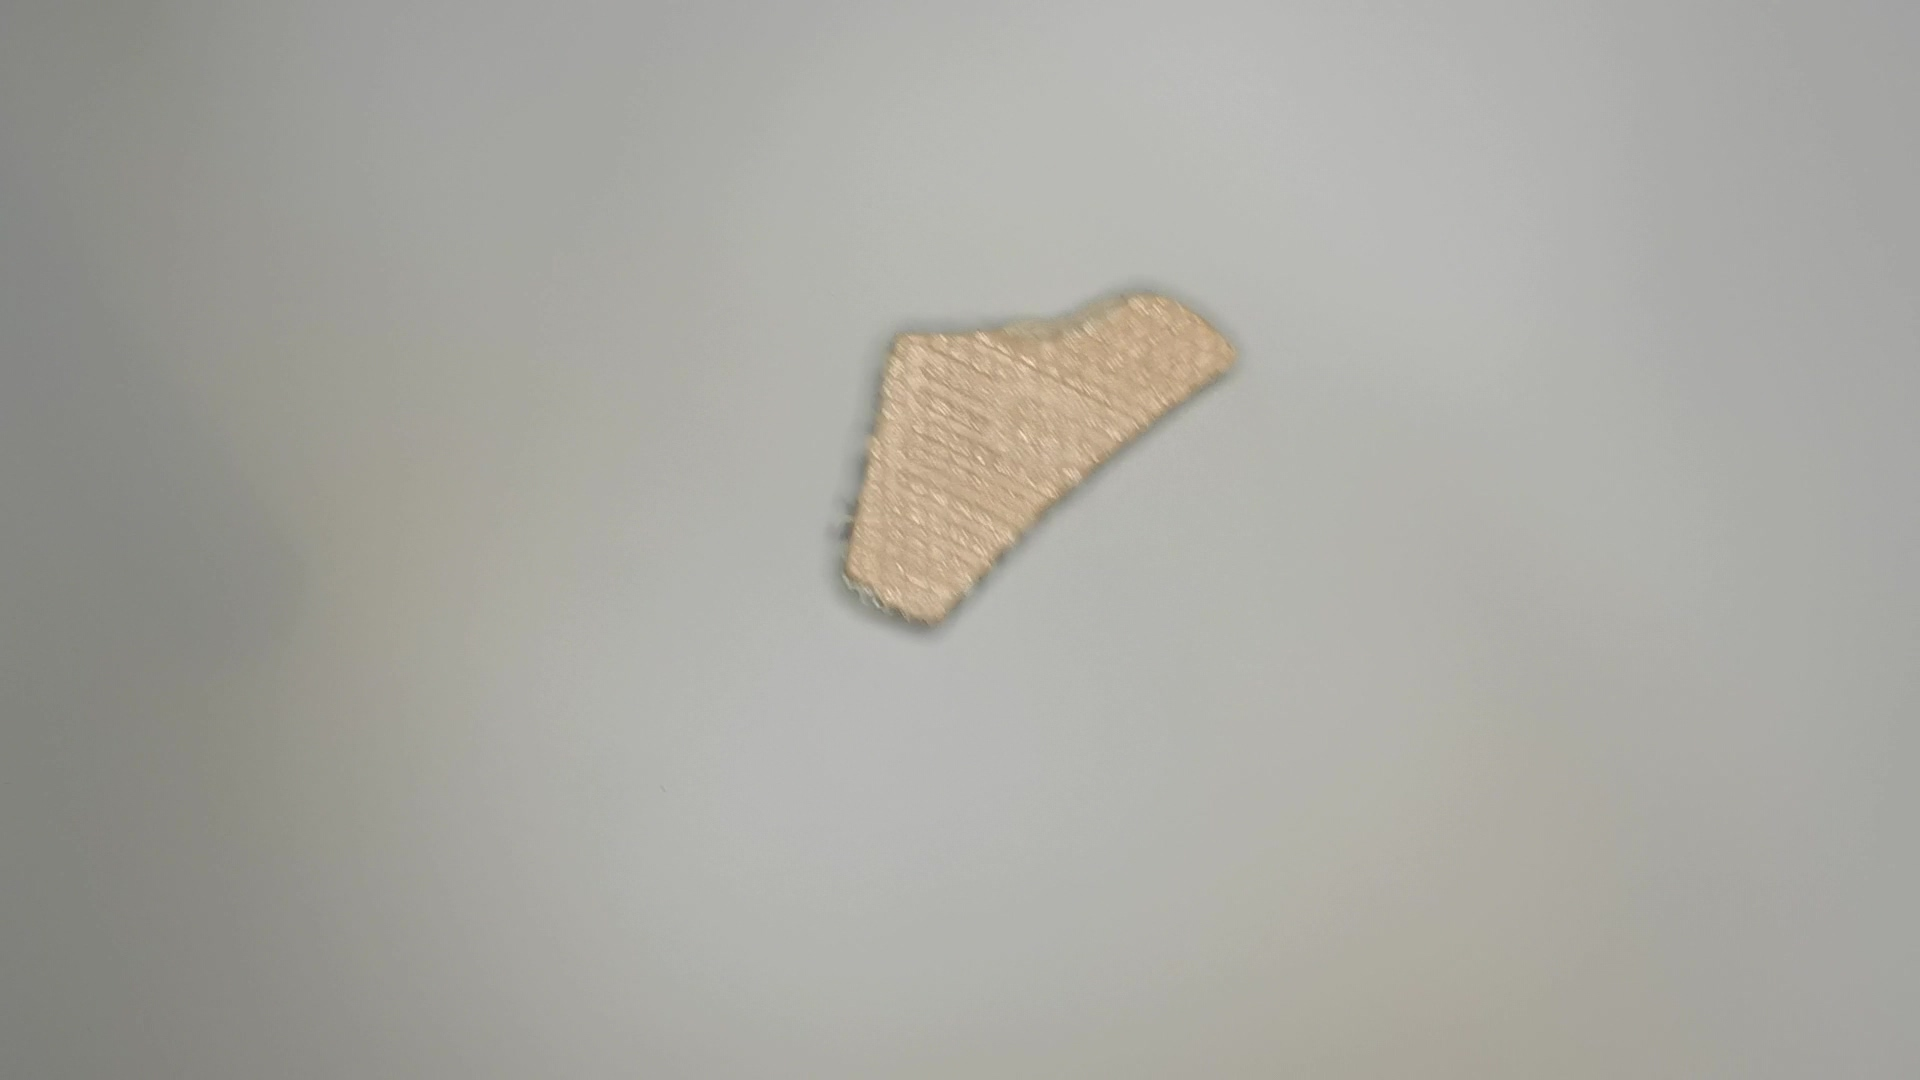ceramic: (833, 282, 1238, 634)
